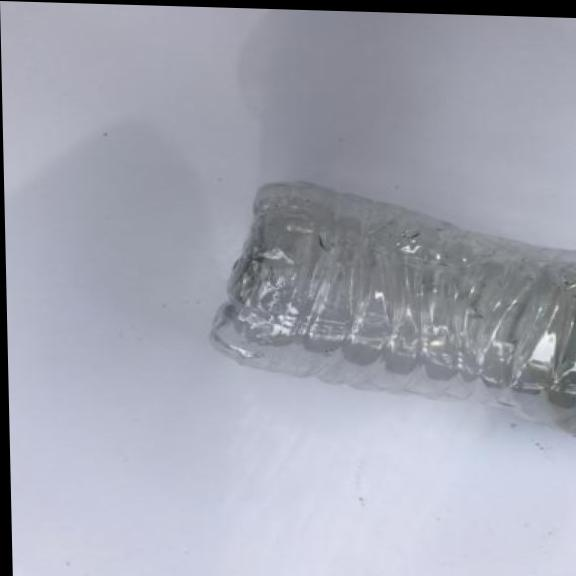Plastik: (200, 174, 576, 434)
